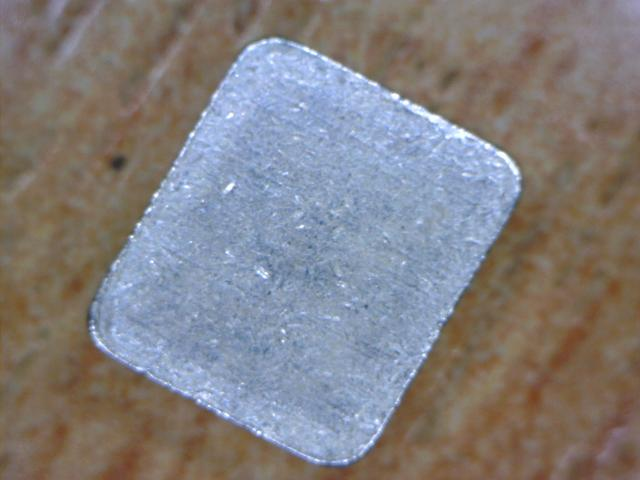ok: (86, 34, 536, 476)
